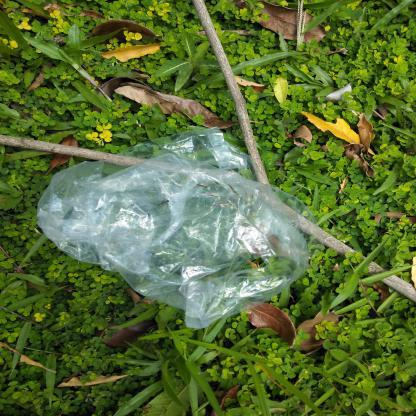plastik: (37, 128, 314, 330)
